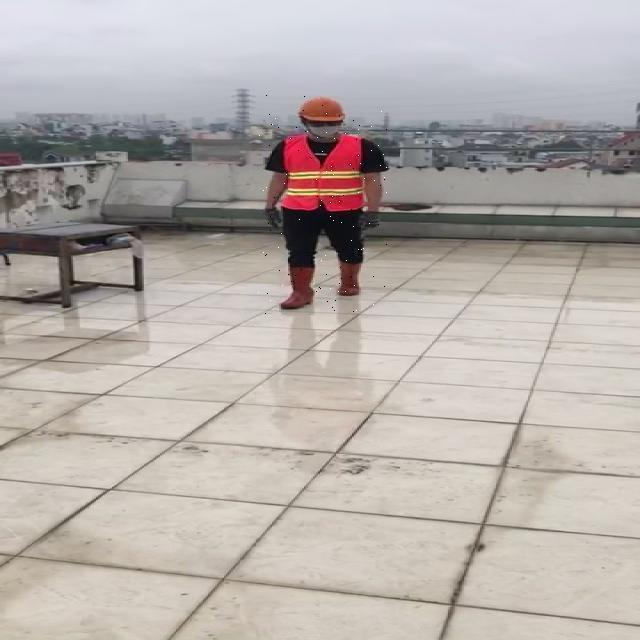gloves: (356, 211, 379, 232), (264, 206, 282, 230)
goggles: (308, 121, 341, 127)
helmet: (298, 96, 346, 121)
safety_vest: (282, 133, 364, 212)
